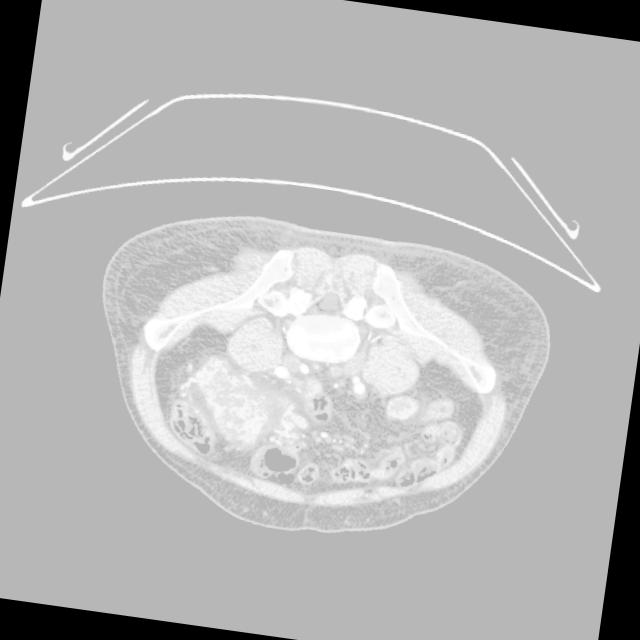TUMOR: (113, 319, 439, 513)
